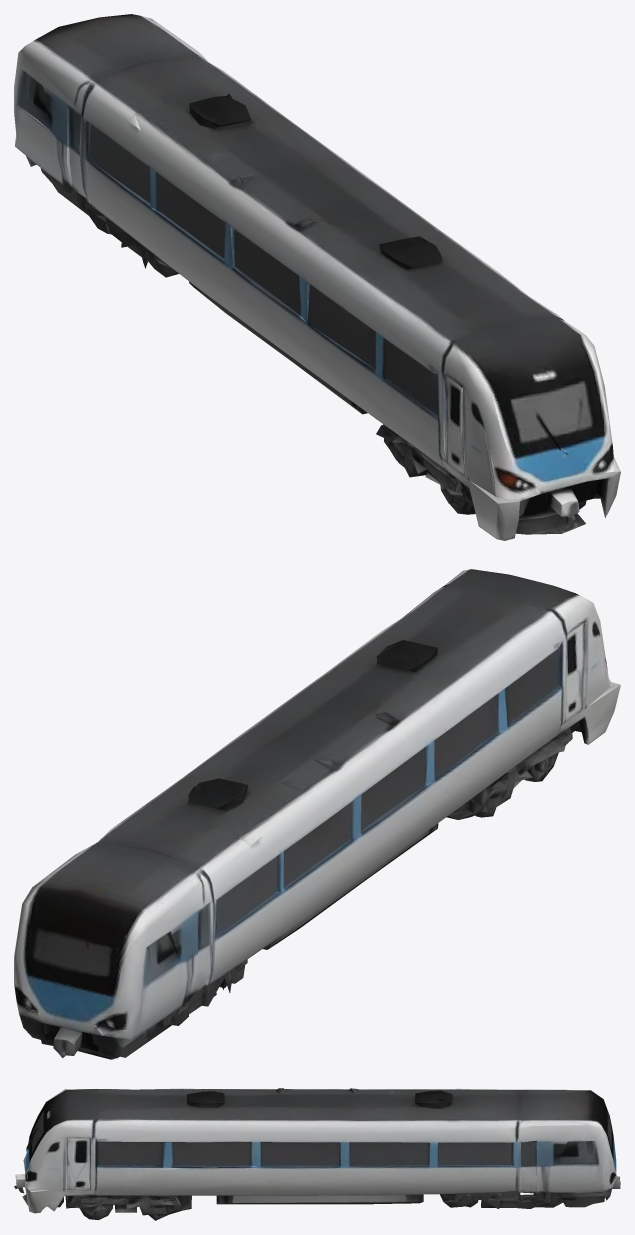
File: locomotiveFront.glb
3 renders of one model, top to bottom at view 1: azimuth 30°, elevation 25°; view 2: azimuth 150°, elevation 25°; view 3: azimuth 270°, elevation 25°, orthographic. The views are drawn at different scales.
Parts seen in each view (by area): view 1: model; view 2: model; view 3: model.
Part boxes in pixels (left/top/right/bottom): model: left=14, top=14, right=620, bottom=540; model: left=14, top=569, right=620, bottom=1059; model: left=14, top=1088, right=620, bottom=1220.
Bounding box in the file's own units: 0.2886 × 0.394 × 1.9.
1 material, 1 textured.
